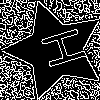H: (30, 25, 88, 74)
